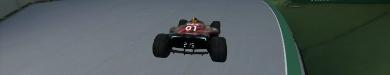Car: (151, 16, 227, 62)
grass: (267, 0, 389, 74)
